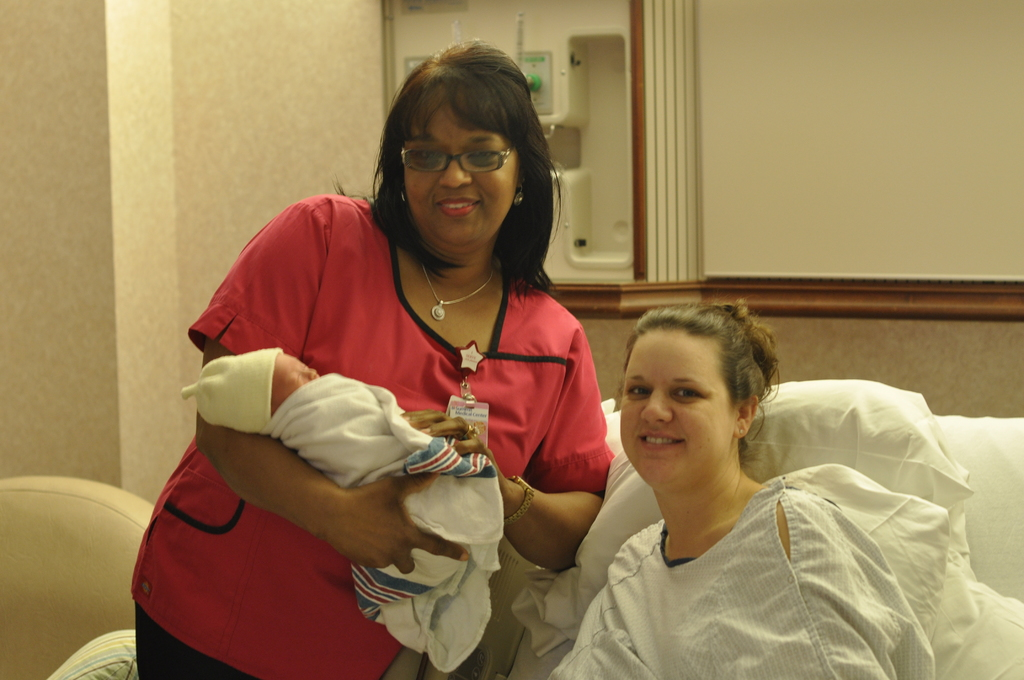Person: (130, 34, 614, 679), (546, 287, 935, 680)
